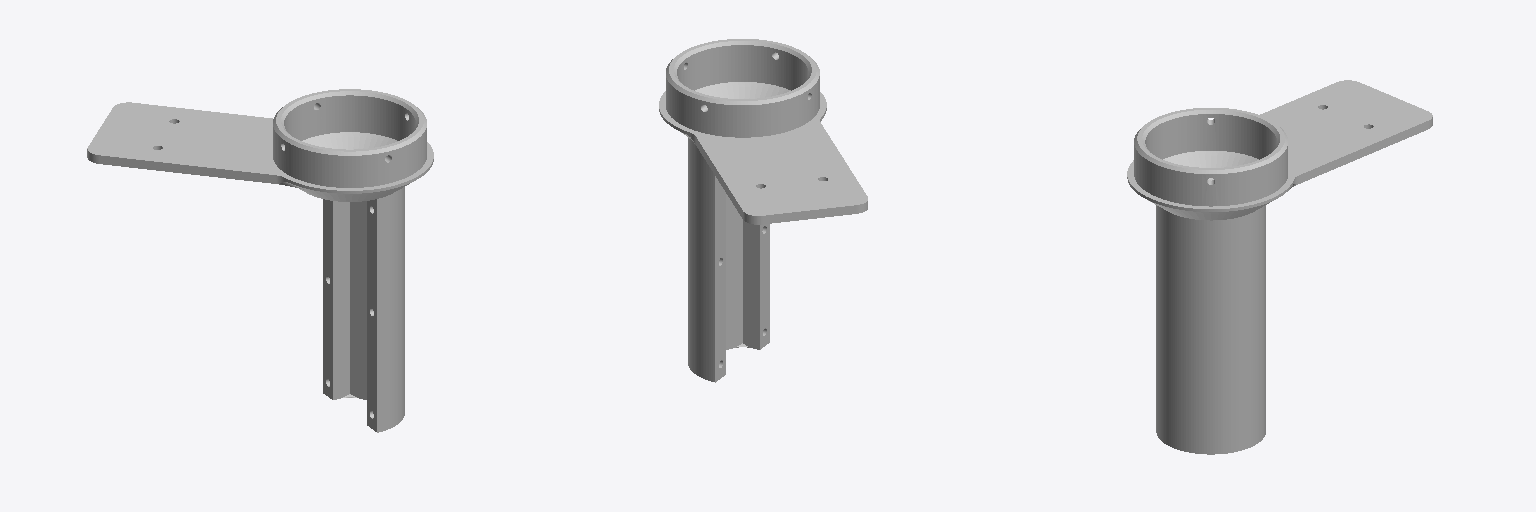
Rendered from hand_pitch_2.obj.
The picture shows the model from 3 angles: view 1: azimuth 30°, elevation 25°; view 2: azimuth 150°, elevation 25°; view 3: azimuth 270°, elevation 25°; orthographic projection.
Visible parts, largest first — view 1: obj1; view 2: obj1; view 3: obj1.
Boxes of the visible parts, <box> form: obj1: <box>87,89,433,432</box>; obj1: <box>659,39,867,382</box>; obj1: <box>1127,80,1432,454</box>.
Size of the model in its own units: 94.64 by 100 by 94.64.